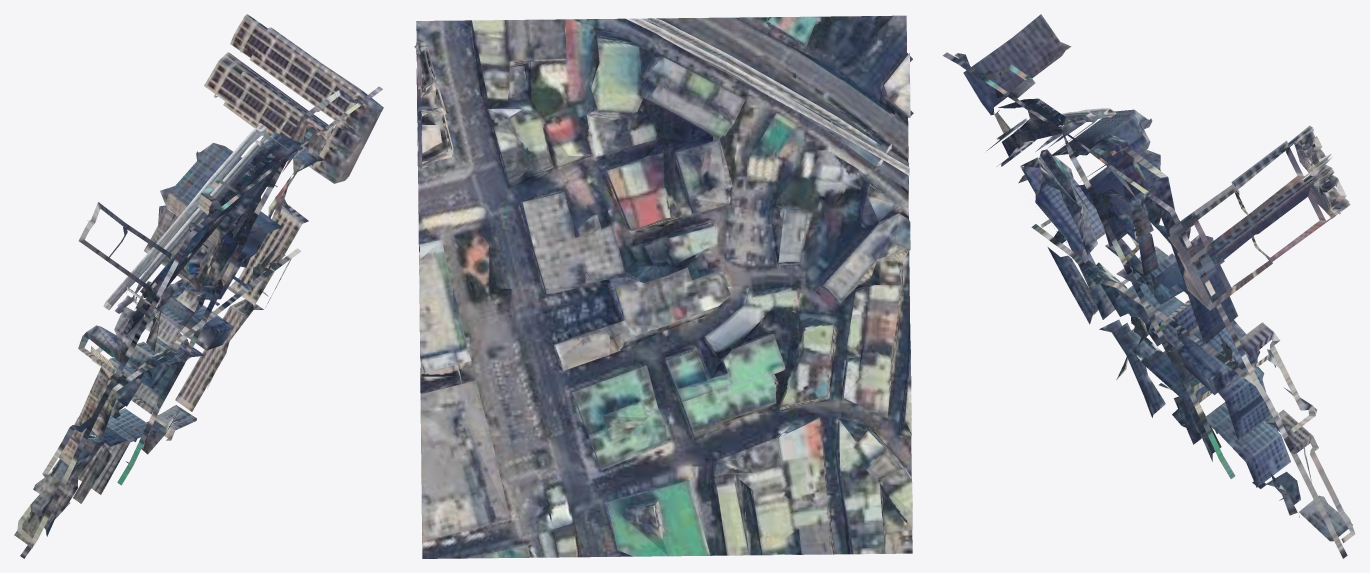
The picture shows the model from 3 angles, left to right: view 1: azimuth 30°, elevation 25°; view 2: azimuth 150°, elevation 25°; view 3: azimuth 270°, elevation 25°; orthographic projection. The views are drawn at different scales.
Size of the model in its own units: 309 by 309 by 263.
Materials: 2 (2 with a texture image).
